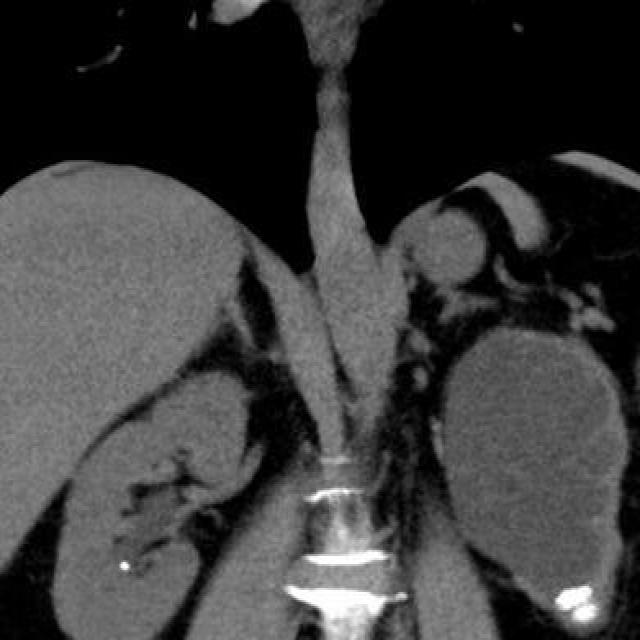Tas_Var: (554, 574, 608, 612), (569, 603, 610, 623), (115, 550, 134, 580)
